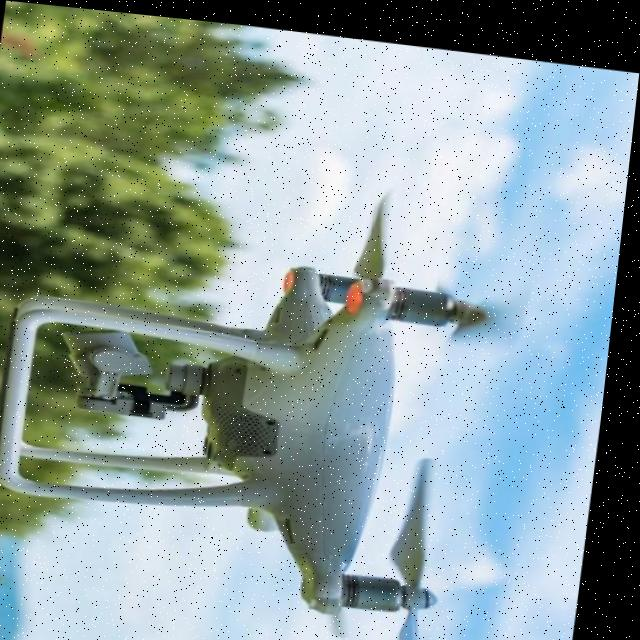drones: (0, 47, 573, 640)
